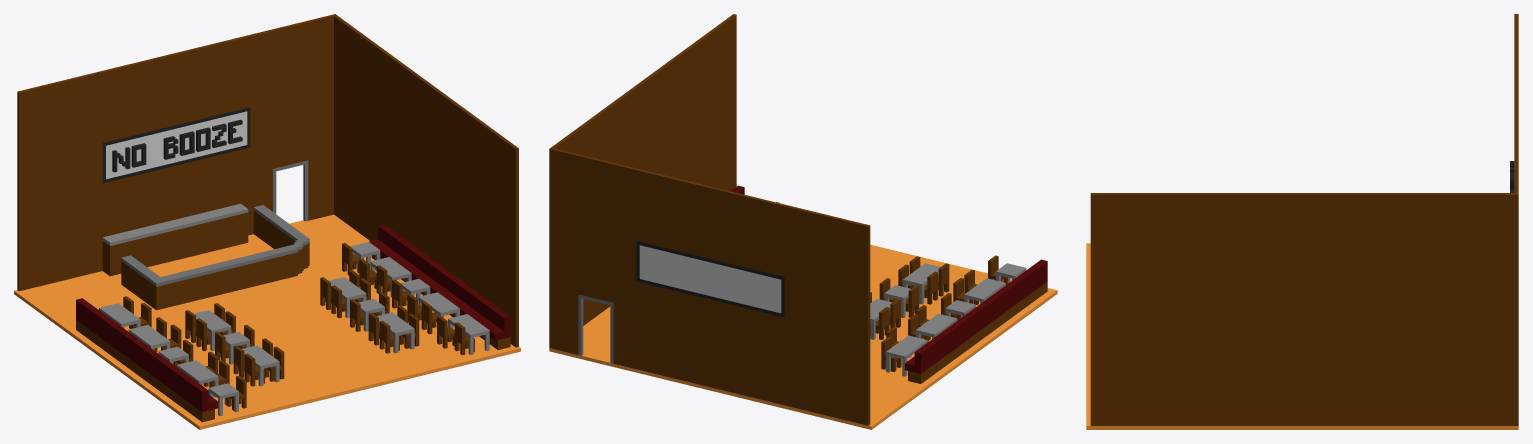
Rendered from Café detailed.obj.
3 renders of one model, left to right at view 1: azimuth 30°, elevation 25°; view 2: azimuth 150°, elevation 25°; view 3: azimuth 270°, elevation 25°, orthographic. The views are drawn at different scales.
Parts seen in each view (by area): view 1: detailled; view 2: detailled; view 3: detailled.
Boxes of the visible parts, <box> form: detailled: <box>14,14,520,429</box>; detailled: <box>549,14,1057,429</box>; detailled: <box>1086,14,1518,429</box>.
Bounding box in the file's own units: 10 × 6 × 10.
